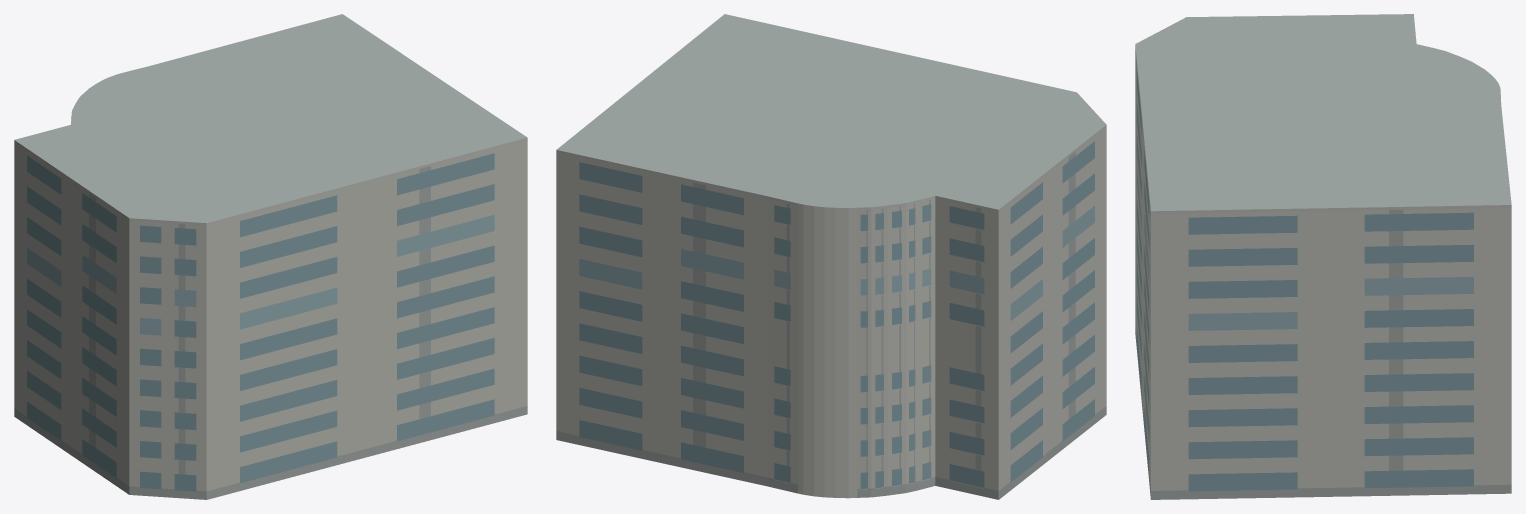
Rendered from survey-upis-32832937.glb.
The picture shows the model from 3 angles, left to right: view 1: azimuth 30°, elevation 25°; view 2: azimuth 150°, elevation 25°; view 3: azimuth 270°, elevation 25°; orthographic projection. The views are drawn at different scales.
Visible parts, largest first — view 1: survey-upis-32832937.tmp; view 2: survey-upis-32832937.tmp; view 3: survey-upis-32832937.tmp.
Part boxes in pixels (x1,y1,x2,y2): survey-upis-32832937.tmp: (14, 14, 527, 499); survey-upis-32832937.tmp: (556, 14, 1106, 499); survey-upis-32832937.tmp: (1135, 14, 1511, 499).
Bounding box in the file's own units: 38.98 × 26.6 × 31.44.
